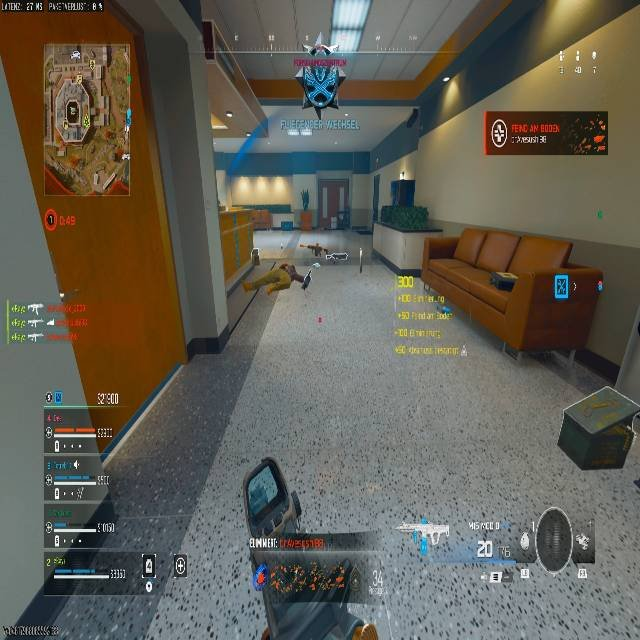head: (309, 44, 331, 56)
player: (295, 44, 346, 118)
